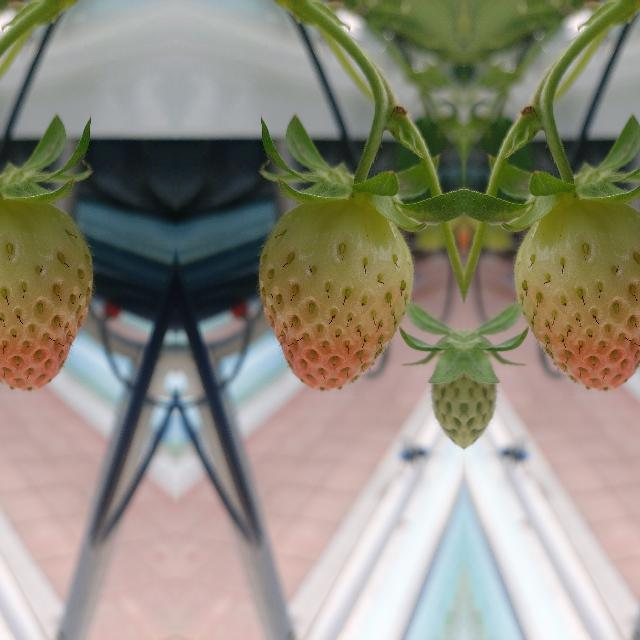Health_25: (258, 198, 412, 390), (513, 198, 640, 389), (0, 198, 92, 389)
